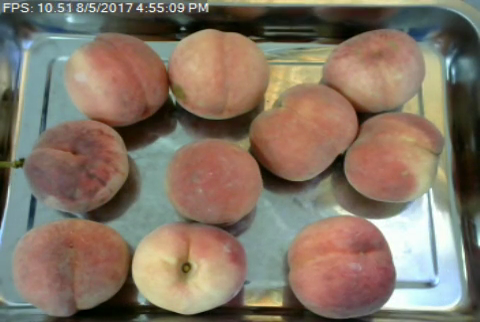Peach: (12, 217, 129, 316), (286, 215, 397, 318), (247, 81, 360, 181), (133, 221, 246, 316), (25, 118, 131, 212), (65, 32, 169, 126), (318, 27, 427, 115), (342, 111, 446, 202), (171, 29, 274, 120), (164, 137, 262, 225)
